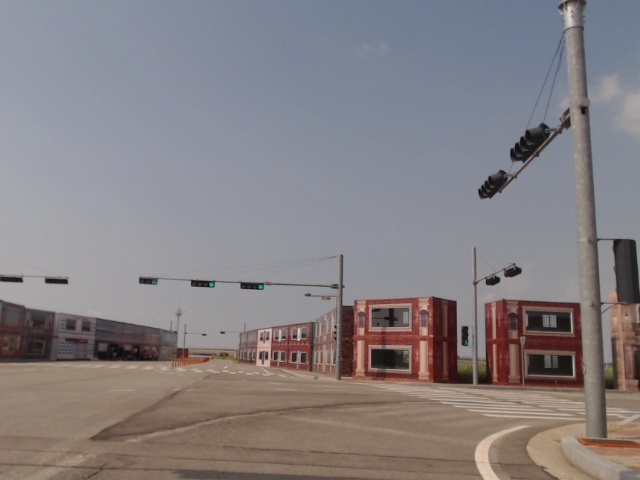straight_green_4: (190, 279, 216, 290), (242, 282, 264, 292)
